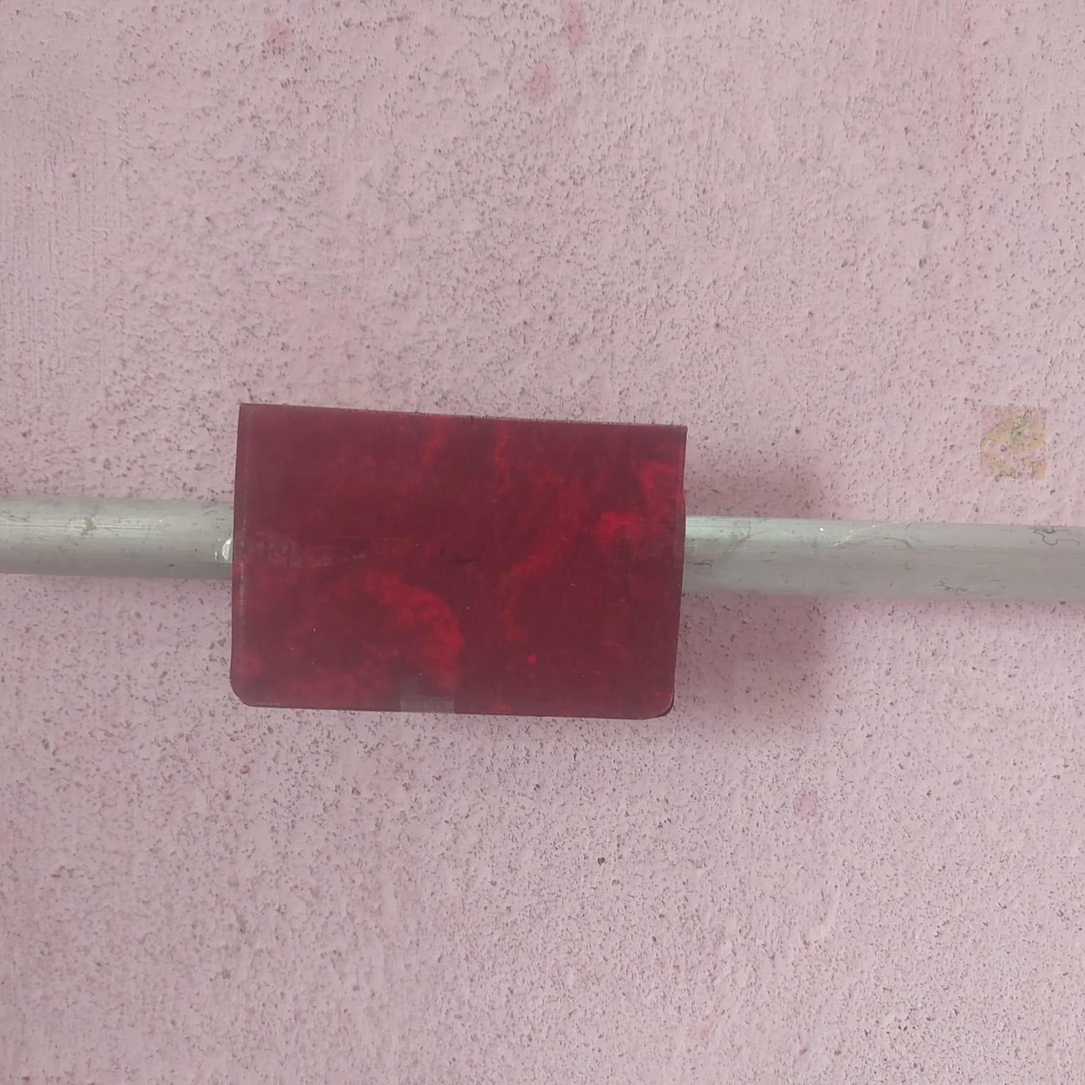wallet: (231, 395, 686, 718)
